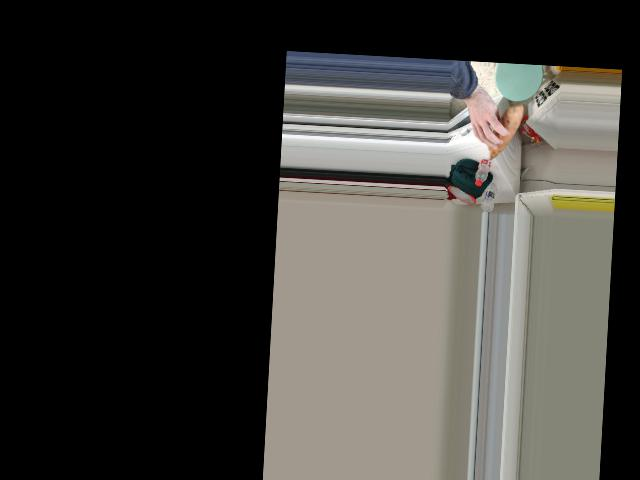sweet_potato: (478, 112, 521, 157)
